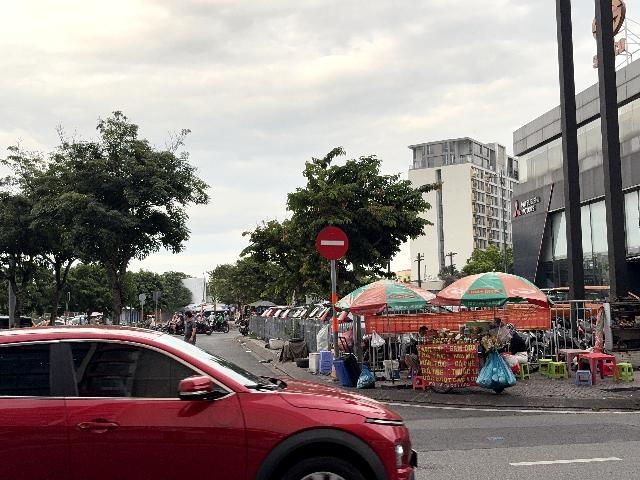cam-di-nguoc-chieu: (316, 226, 348, 260)
